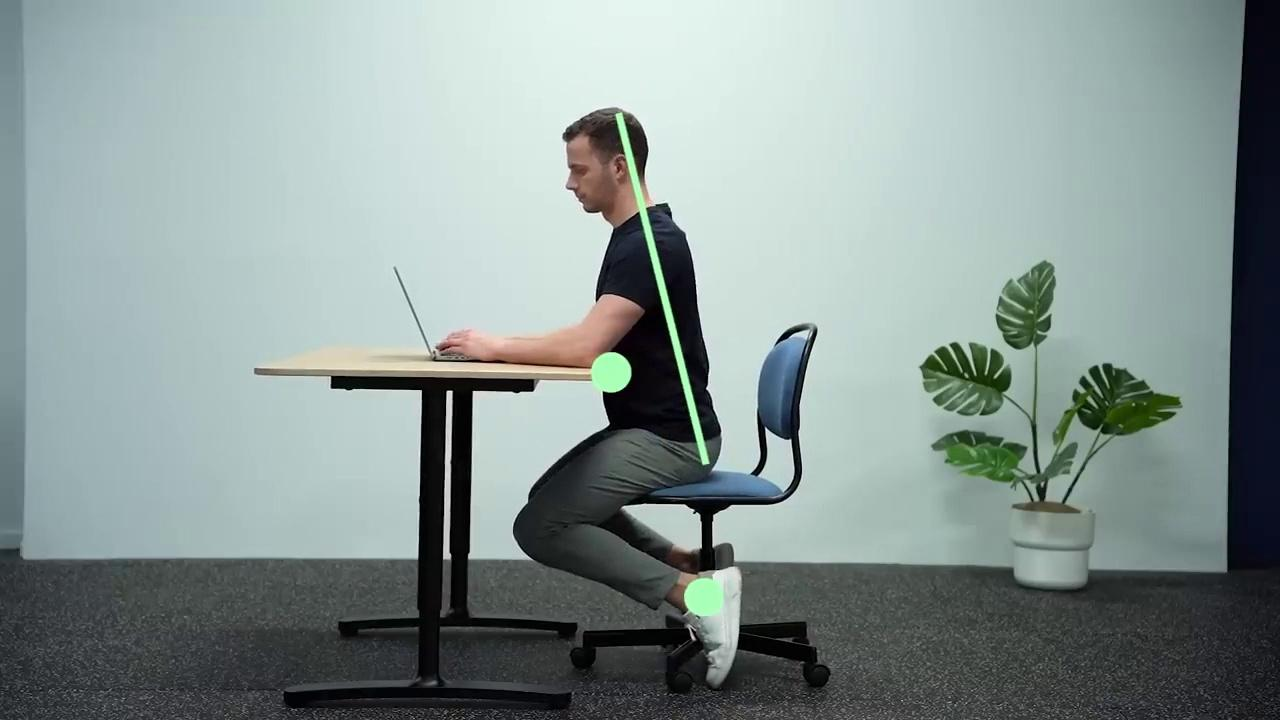GoodPosture: (496, 108, 739, 688)
